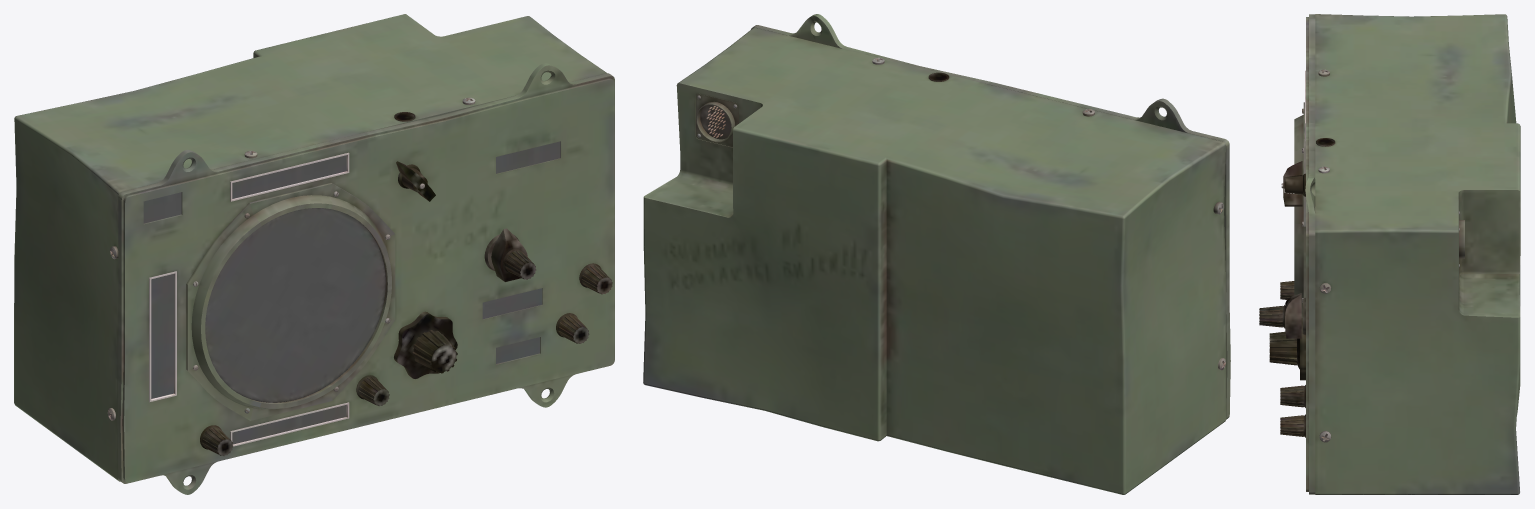
The model's file is spacecraftInstrument.glb.
3 renders of one model, left to right at view 1: azimuth 30°, elevation 25°; view 2: azimuth 150°, elevation 25°; view 3: azimuth 270°, elevation 25°, orthographic. The views are drawn at different scales.
Visible parts, largest first — view 1: vintage_spacecraft_instrument; view 2: vintage_spacecraft_instrument; view 3: vintage_spacecraft_instrument.
Part boxes in pixels (bbox=[...]): vintage_spacecraft_instrument: bbox=[14, 14, 614, 494]; vintage_spacecraft_instrument: bbox=[643, 14, 1230, 494]; vintage_spacecraft_instrument: bbox=[1259, 14, 1520, 494].
Bounding box in the file's own units: 0.4103 × 0.2693 × 0.2044.
2 materials, 2 textured.
